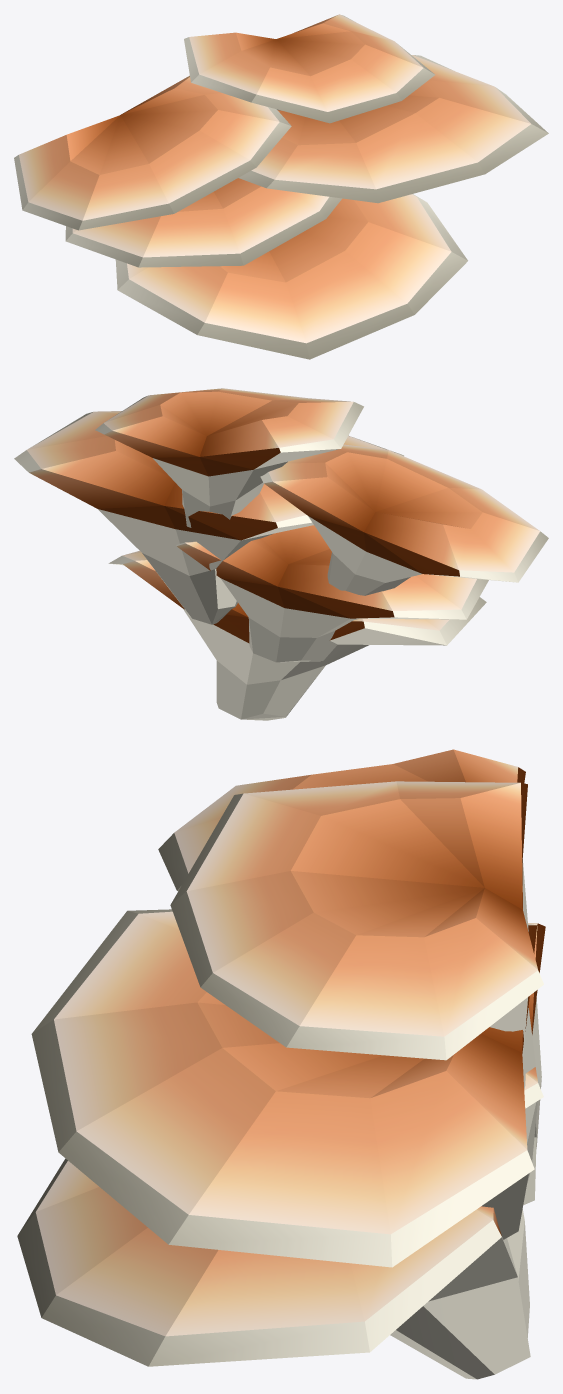
File: MushroomTree-06.FBX
3 renders of one model, top to bottom at view 1: azimuth 30°, elevation 25°; view 2: azimuth 150°, elevation 25°; view 3: azimuth 270°, elevation 25°, orthographic. The views are drawn at different scales.
Visible parts, largest first — view 1: MushroomTree-06; view 2: MushroomTree-06; view 3: MushroomTree-06.
Part boxes in pixels (<box>): MushroomTree-06: <box>14,14,548,359</box>; MushroomTree-06: <box>14,388,548,720</box>; MushroomTree-06: <box>17,749,545,1379</box>.
Bounding box in the file's own units: 124 × 70.18 × 58.96.
Materials: 1 (1 with a texture image).
